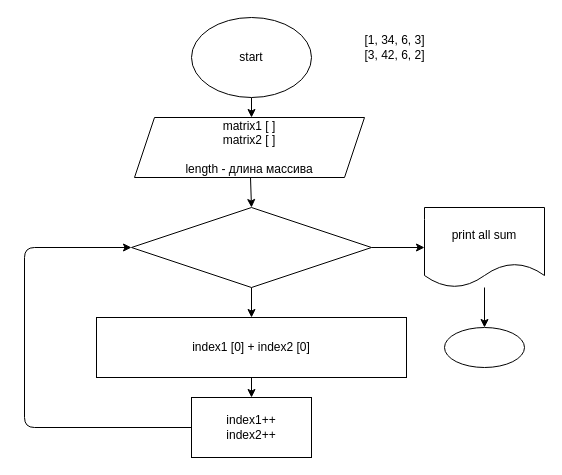
Some shapes in this 562 by 475 pixel diagram are drawn without their labels. Each missing label, with the centre of its shape:
end: (484,347)
index1 < length index2 < length: (251,247)
